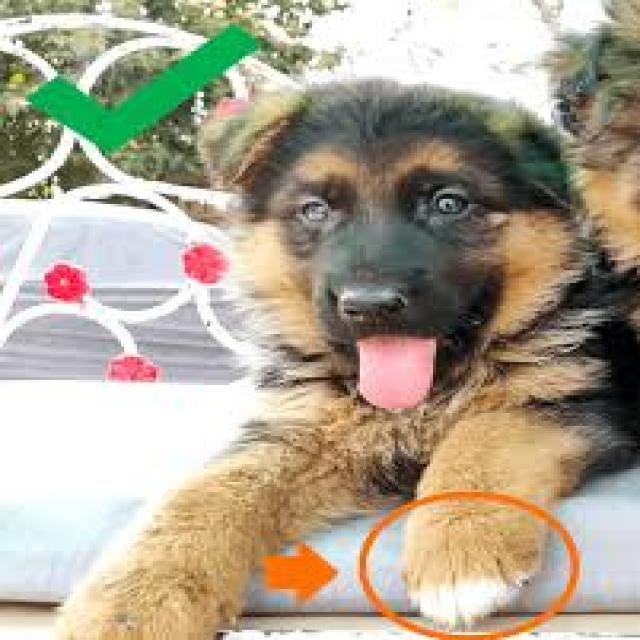Dog: (41, 71, 640, 640)
